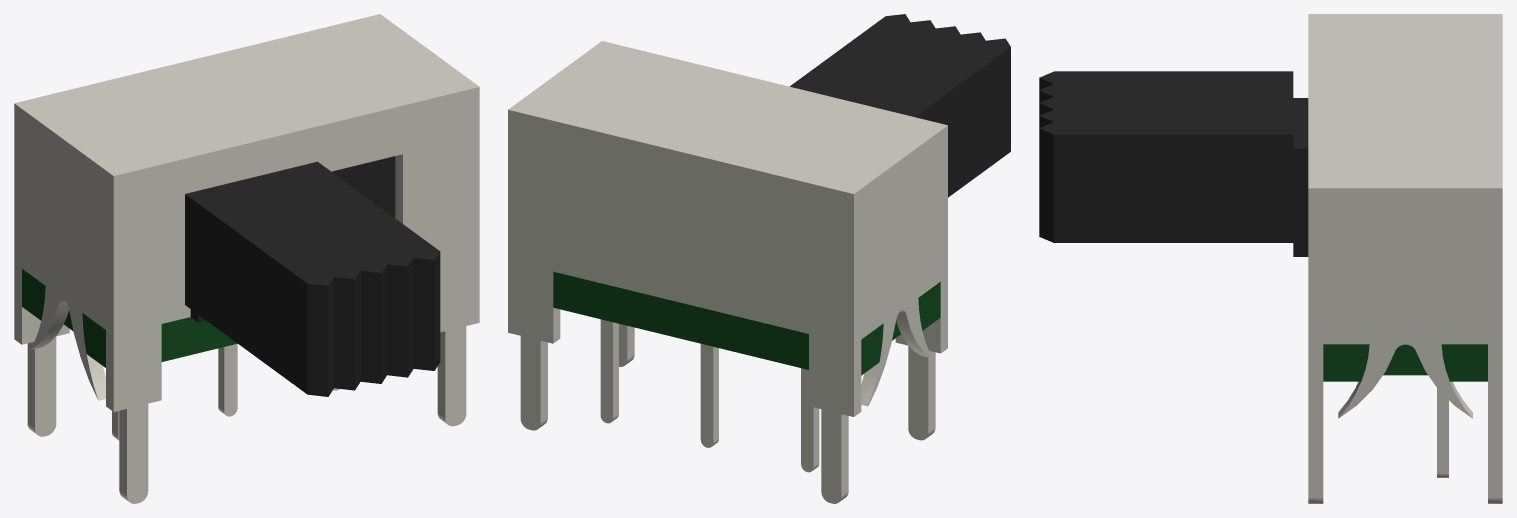
The model's file is kc-sw_e-switch_eg1224_spdt_angled.glb.
3 views of the same model, side by side, from view 1: azimuth 30°, elevation 25°; view 2: azimuth 150°, elevation 25°; view 3: azimuth 270°, elevation 25° (orthographic). The views are drawn at different scales.
Visible parts, largest first — view 1: 0.6666666666666666_0.6666666666666666_0.5833333333333334_0.8, 0_0_0_0, 0_0.08333333333333333_0_0; view 2: 0.6666666666666666_0.6666666666666666_0.5833333333333334_0.8, 0_0_0_0, 0_0.08333333333333333_0_0; view 3: 0.6666666666666666_0.6666666666666666_0.5833333333333334_0.8, 0_0_0_0, 0_0.08333333333333333_0_0.
Part boxes in pixels (left/top/right/bottom): 0.6666666666666666_0.6666666666666666_0.5833333333333334_0.8: left=14, top=14, right=479, bottom=503; 0_0_0_0: left=185, top=156, right=440, bottom=396; 0_0.08333333333333333_0_0: left=22, top=269, right=237, bottom=367; 0.6666666666666666_0.6666666666666666_0.5833333333333334_0.8: left=508, top=41, right=947, bottom=503; 0_0_0_0: left=790, top=14, right=1010, bottom=197; 0_0.08333333333333333_0_0: left=553, top=271, right=940, bottom=375; 0.6666666666666666_0.6666666666666666_0.5833333333333334_0.8: left=1308, top=14, right=1502, bottom=503; 0_0_0_0: left=1039, top=71, right=1308, bottom=256; 0_0.08333333333333333_0_0: left=1323, top=344, right=1487, bottom=381.
Bounding box in the file's own units: 1.38 × 1.2 × 1.55.
